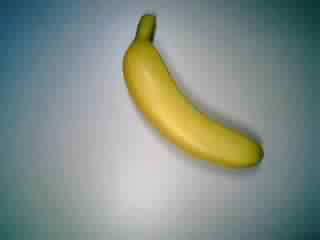banana: (121, 15, 267, 170)
